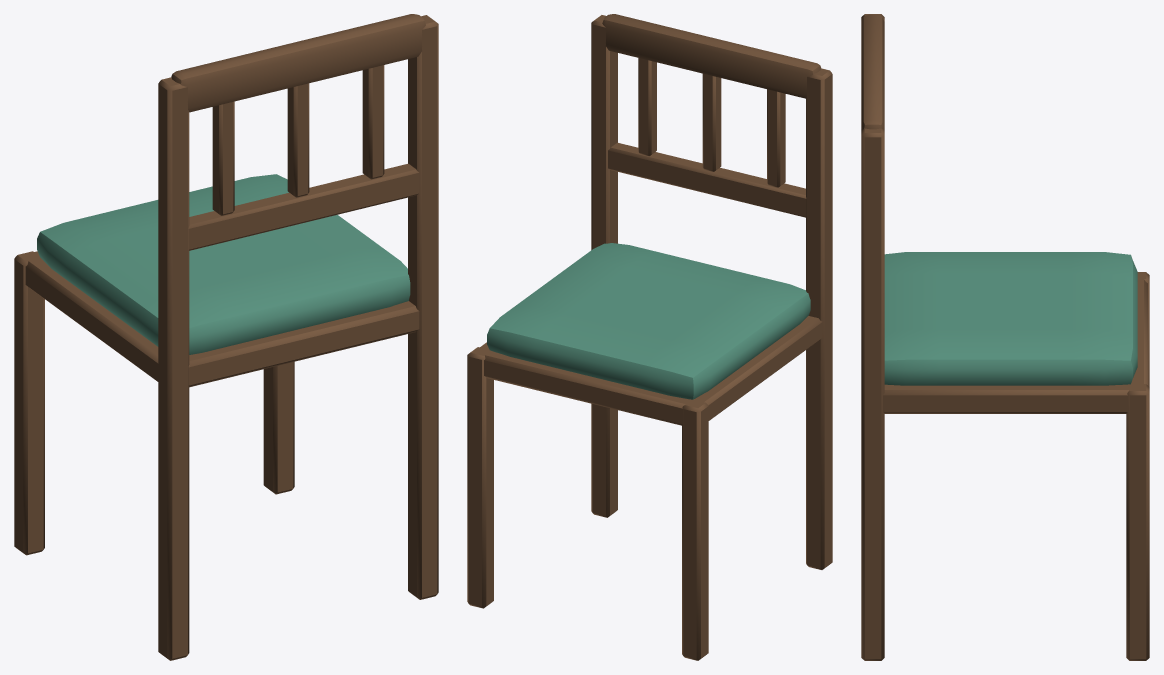
File: arr_sedia.fbx
The picture shows the model from 3 angles, left to right: view 1: azimuth 30°, elevation 25°; view 2: azimuth 150°, elevation 25°; view 3: azimuth 270°, elevation 25°; orthographic projection. The views are drawn at different scales.
Parts seen in each view (by area): view 1: arr_sedia_noce, arr_sedia_velluto; view 2: arr_sedia_noce, arr_sedia_velluto; view 3: arr_sedia_velluto, arr_sedia_noce.
Boxes of the visible parts, <box> form: arr_sedia_noce: <box>14,14,438,660</box>; arr_sedia_velluto: <box>37,174,410,354</box>; arr_sedia_noce: <box>467,14,832,660</box>; arr_sedia_velluto: <box>487,243,810,399</box>; arr_sedia_velluto: <box>884,252,1137,385</box>; arr_sedia_noce: <box>861,14,1149,660</box>.
Bounding box in the file's own units: 0.435 × 0.89 × 0.435.
